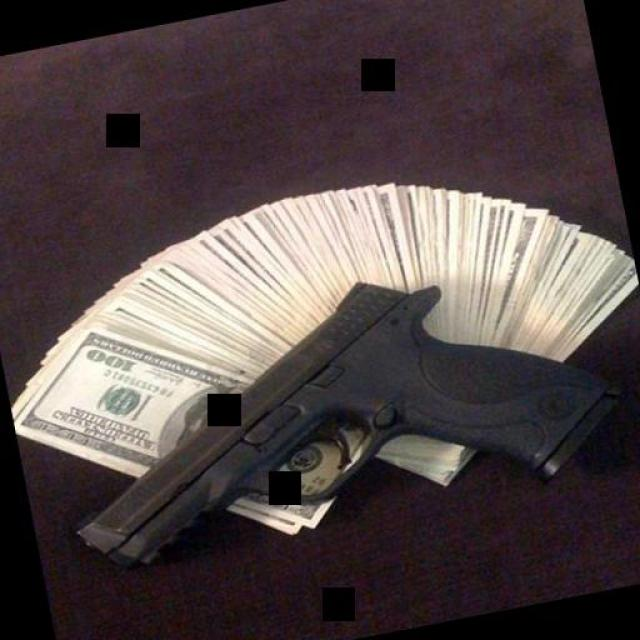gun: (40, 236, 626, 589)
